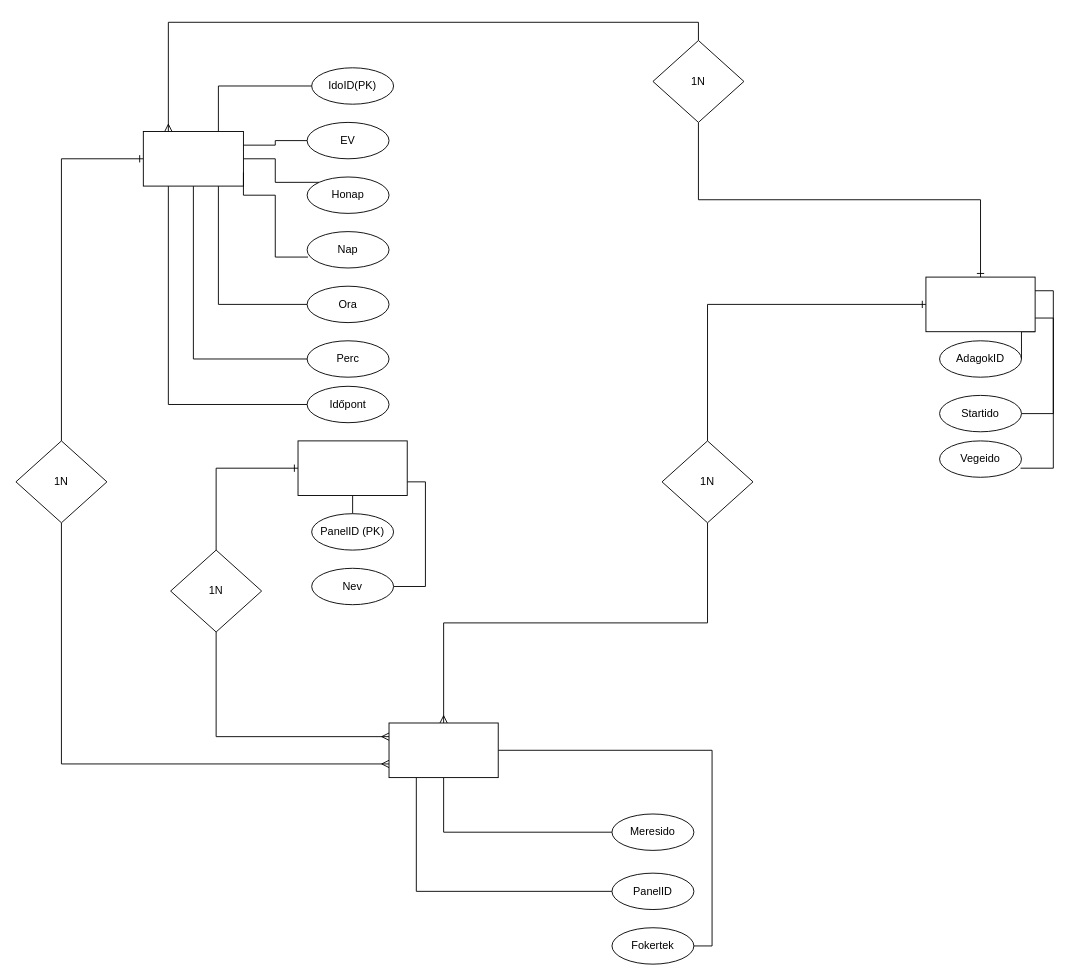
The diagram is 1070 pixels wide and 980 high, and some of its shapes have lost their labels. The box of each missing label's shape, as (x1, y1, x2, y2) in pixels:
ADAGOK (entitás): (925, 276, 1035, 332)
FOK (entitás): (388, 722, 498, 778)
IDO (entitás): (142, 131, 243, 186)
PANEL (entitás): (297, 440, 407, 495)
